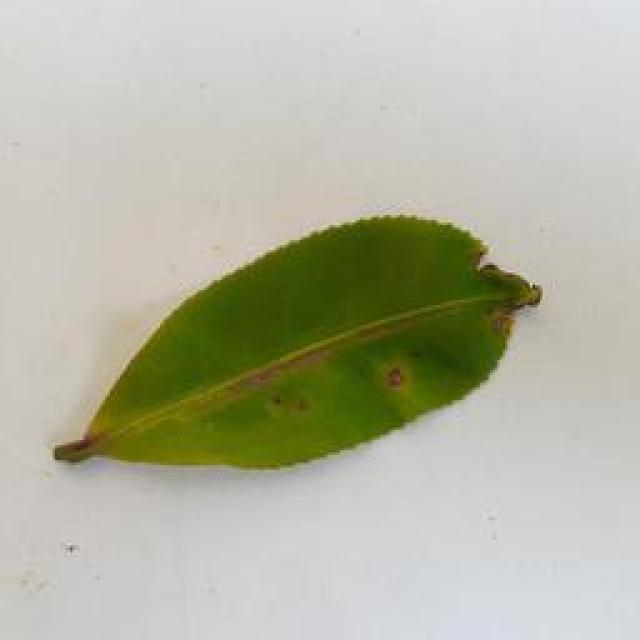Helopeltis: (56, 208, 546, 492)
